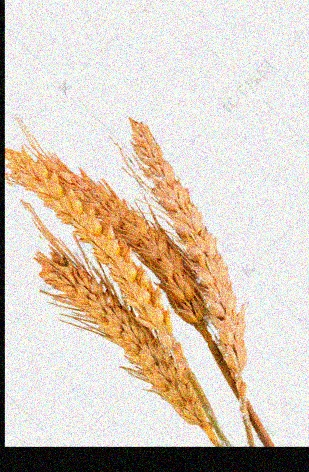wheat: (41, 247, 214, 445), (8, 141, 199, 318), (137, 110, 247, 369)
